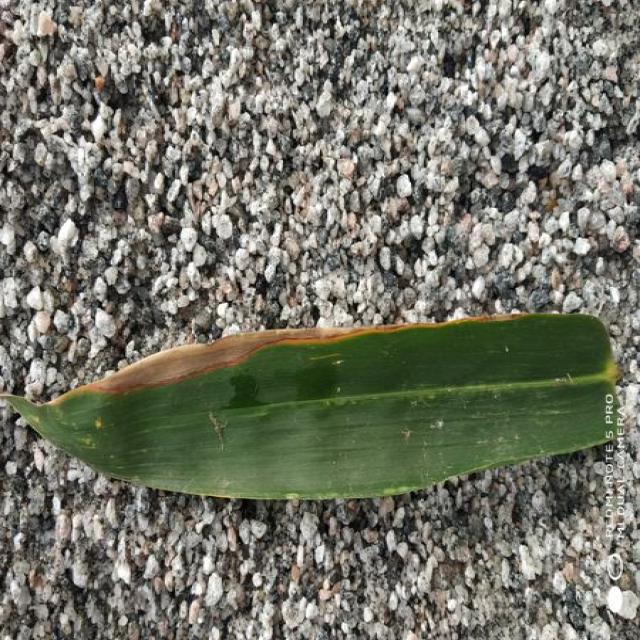Bamboo: (5, 314, 618, 498)
defectedBamboo: (6, 319, 493, 411)
